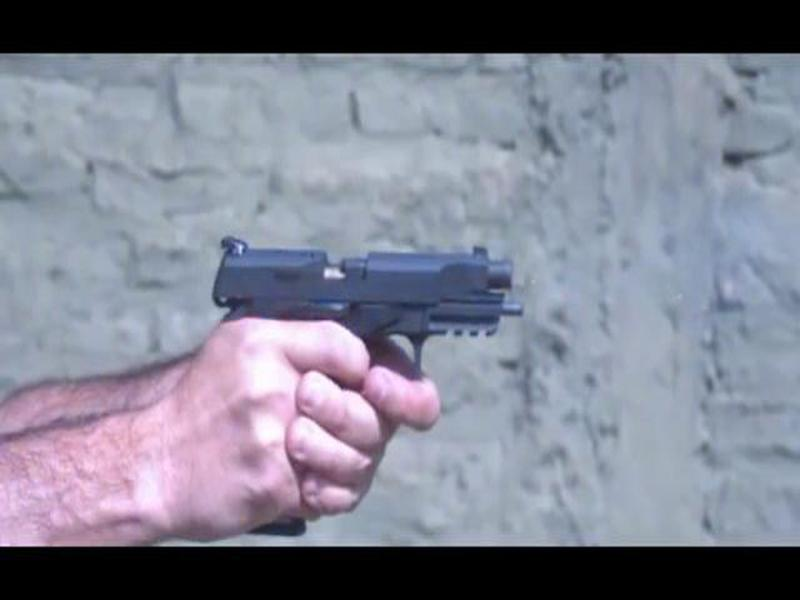Pistola: (194, 214, 542, 411)
